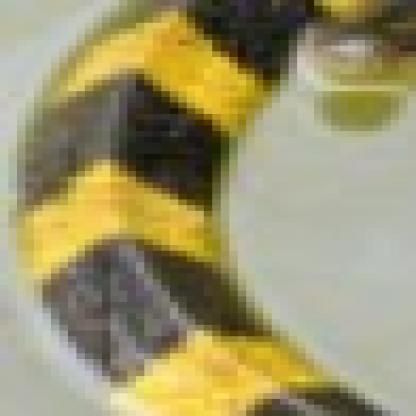snakes: (7, 4, 402, 416)
